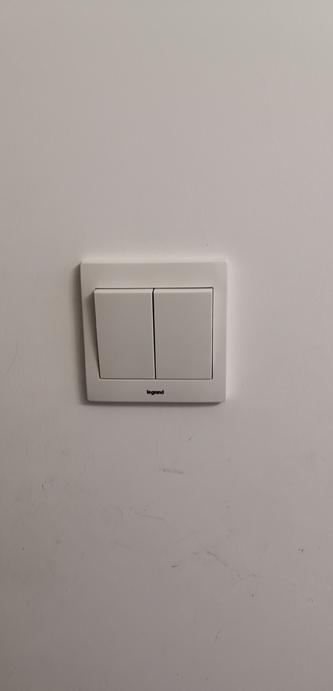switch: (86, 279, 166, 387), (147, 279, 219, 387)
